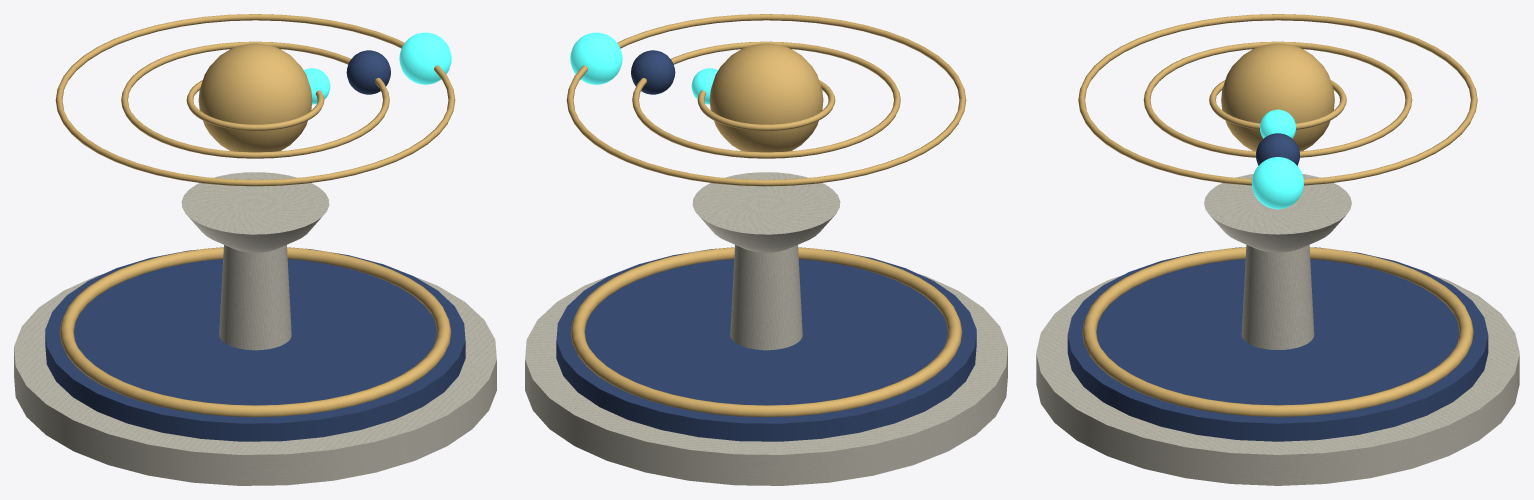
Rendered from arcane-academy-and-spell-trials-orrery-51f0187c__28286.glb.
3 views of the same model, side by side, from view 1: azimuth 30°, elevation 25°; view 2: azimuth 150°, elevation 25°; view 3: azimuth 270°, elevation 25° (orthographic).
Parts seen in each view (by area): view 1: orrery, orbit (×3); view 2: orrery, orbit (×3); view 3: orrery, orbit (×3).
Boxes of the visible parts, bbox=[...] form: orrery: bbox=[14, 43, 496, 485]; orbit (×3): bbox=[55, 14, 455, 186]; orrery: bbox=[525, 43, 1007, 485]; orbit (×3): bbox=[566, 14, 966, 186]; orrery: bbox=[1036, 43, 1519, 485]; orbit (×3): bbox=[1078, 14, 1477, 209].
Bounding box in the file's own units: 1.7 × 1.3 × 1.7.
Materials: 4 (1 with a texture image).
